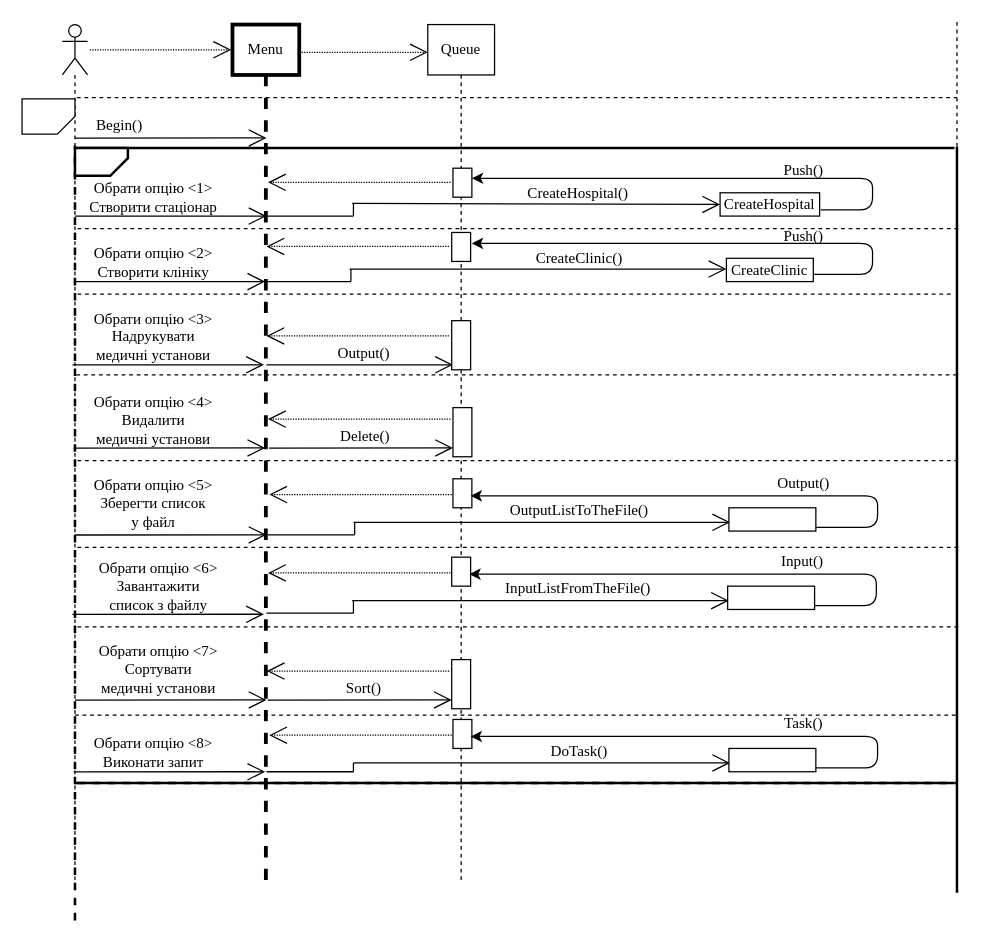
This 982x945 diagram has some shape labels left out. Here are the shapes that lost their labels. From the top down, the centre of each, then its label:
At pixel 48 116: "loop".
At pixel 101 161: "alt".
